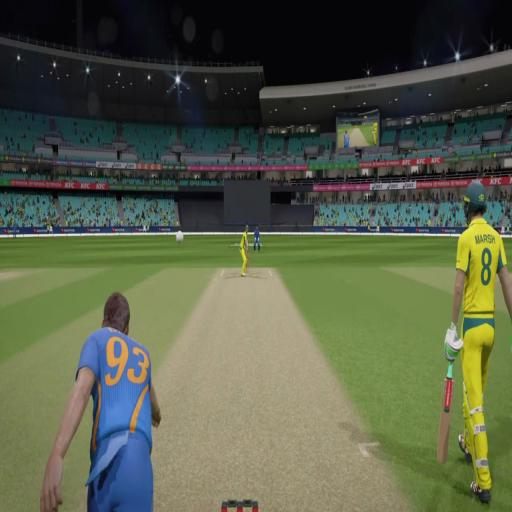ball: (175, 226, 184, 245)
